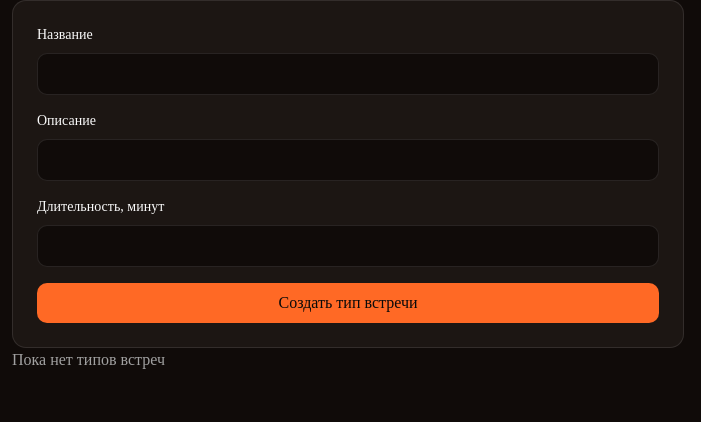
Test: admin page creates event types › names the duplicate on 409 instead of a silent double
Type "Созвон" into the field labelled "Название".
click(348, 74); type("Созвон")  # box [37, 53, 659, 95]
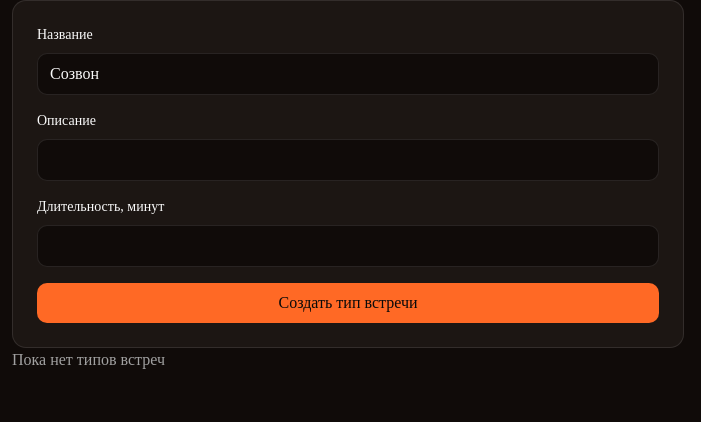
Type "Короткий звонок" into the field labelled "Описание".
click(348, 160); type("Короткий звонок")  # box [37, 139, 659, 181]
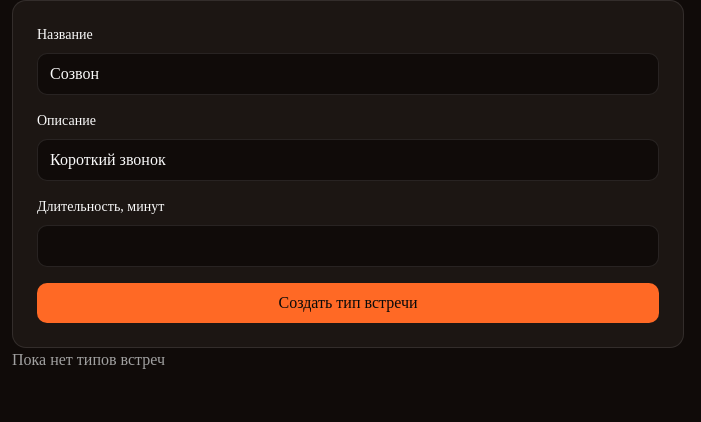
Type "15" into the number field labelled "Длительность, минут".
click(348, 246); type("15")  # box [37, 225, 659, 267]
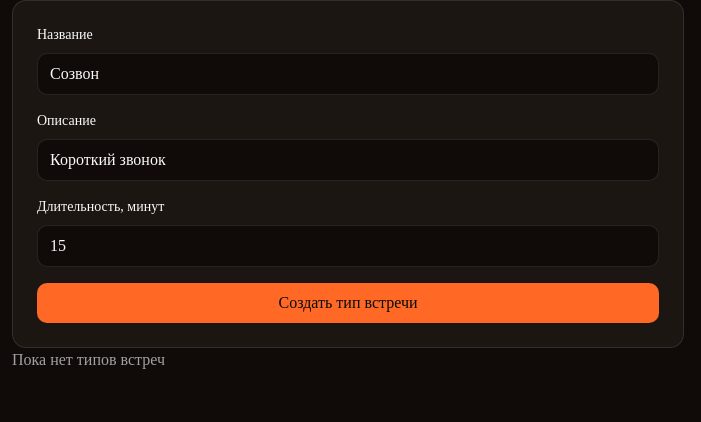
Click the button "Создать тип встречи".
click(348, 303)  # box [37, 283, 659, 323]
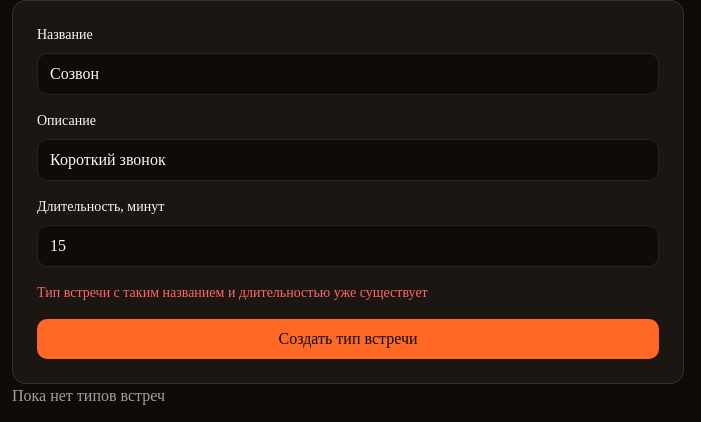
Expected: the message reads "Тип встречи с таким названием и длительностью уже существует", [37, 285, 428, 300]
